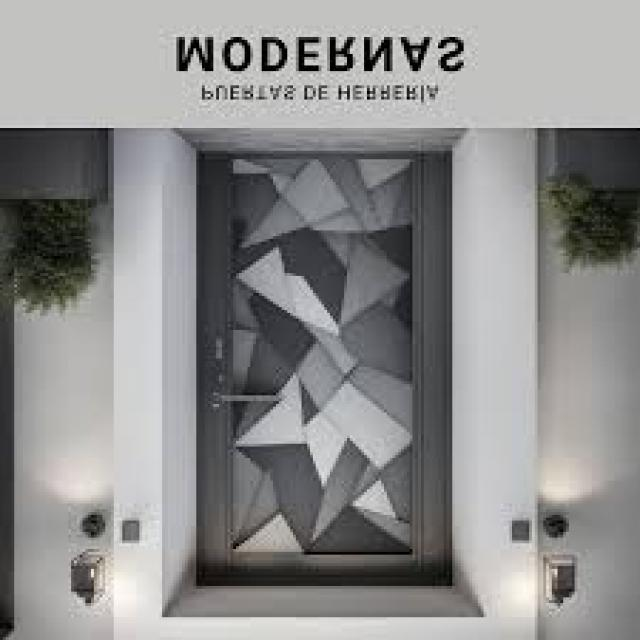door: (195, 148, 454, 589)
